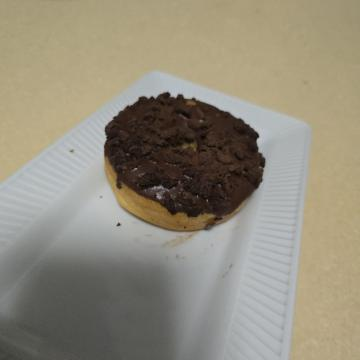doughnut: (77, 81, 248, 272)
